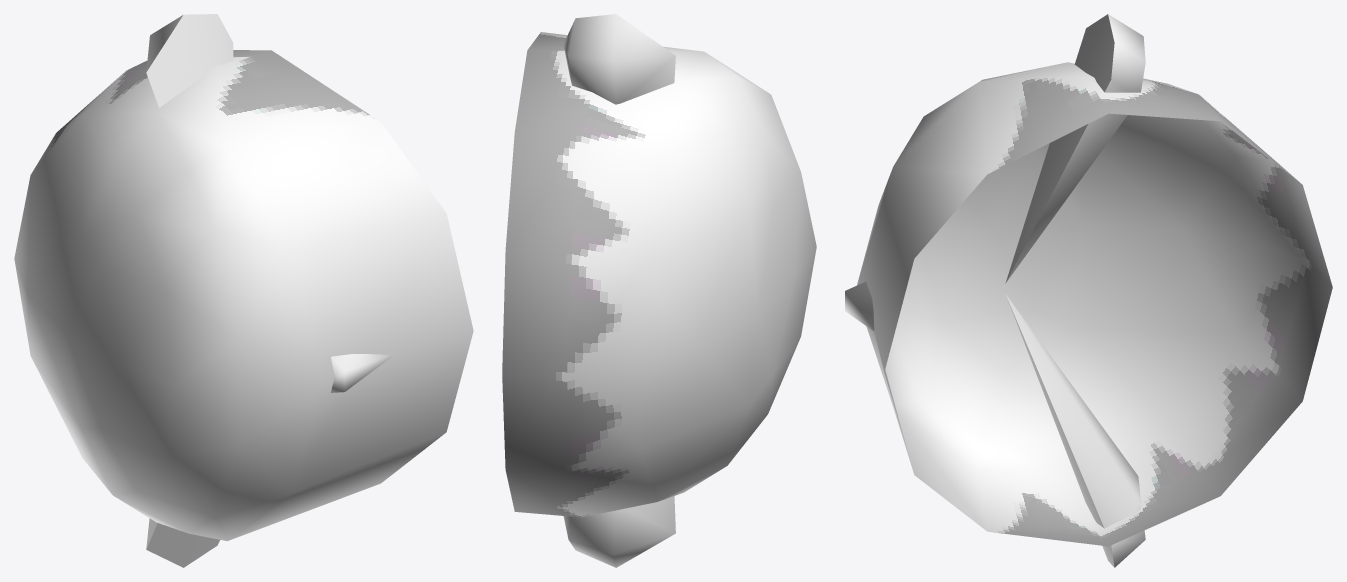
Rendered from boy08b.dae.
3 renders of one model, left to right at view 1: azimuth 30°, elevation 25°; view 2: azimuth 150°, elevation 25°; view 3: azimuth 270°, elevation 25°, orthographic.
Visible parts, largest first — view 1: boy08b; view 2: boy08b; view 3: boy08b.
Boxes of the visible parts, x1,y1,x2,y2 form: boy08b: (14,14,473,567); boy08b: (502,14,816,567); boy08b: (845,14,1332,567).
Size of the model in its own units: 15.5 by 26.71 by 21.59.
3 materials, 1 textured.
